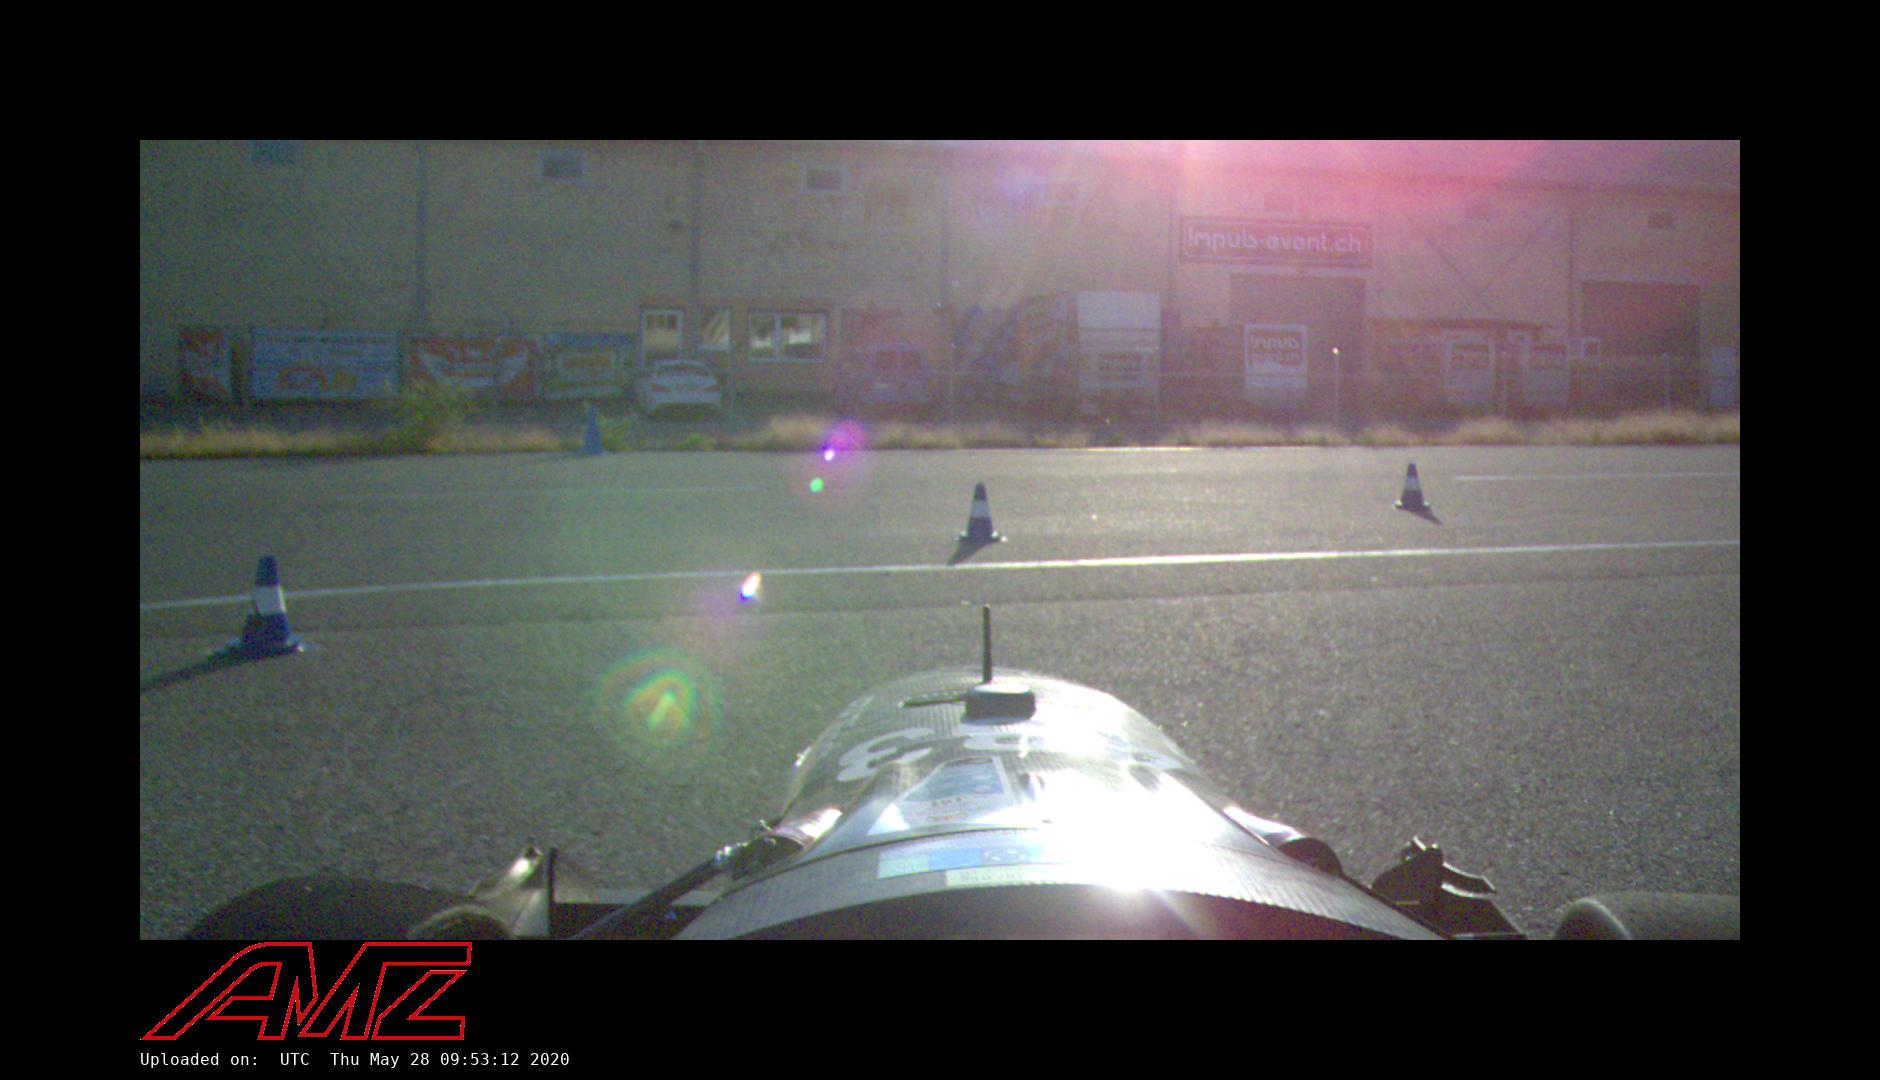blue_cone: (212, 552, 314, 659), (953, 481, 1002, 543), (1391, 461, 1431, 512)
